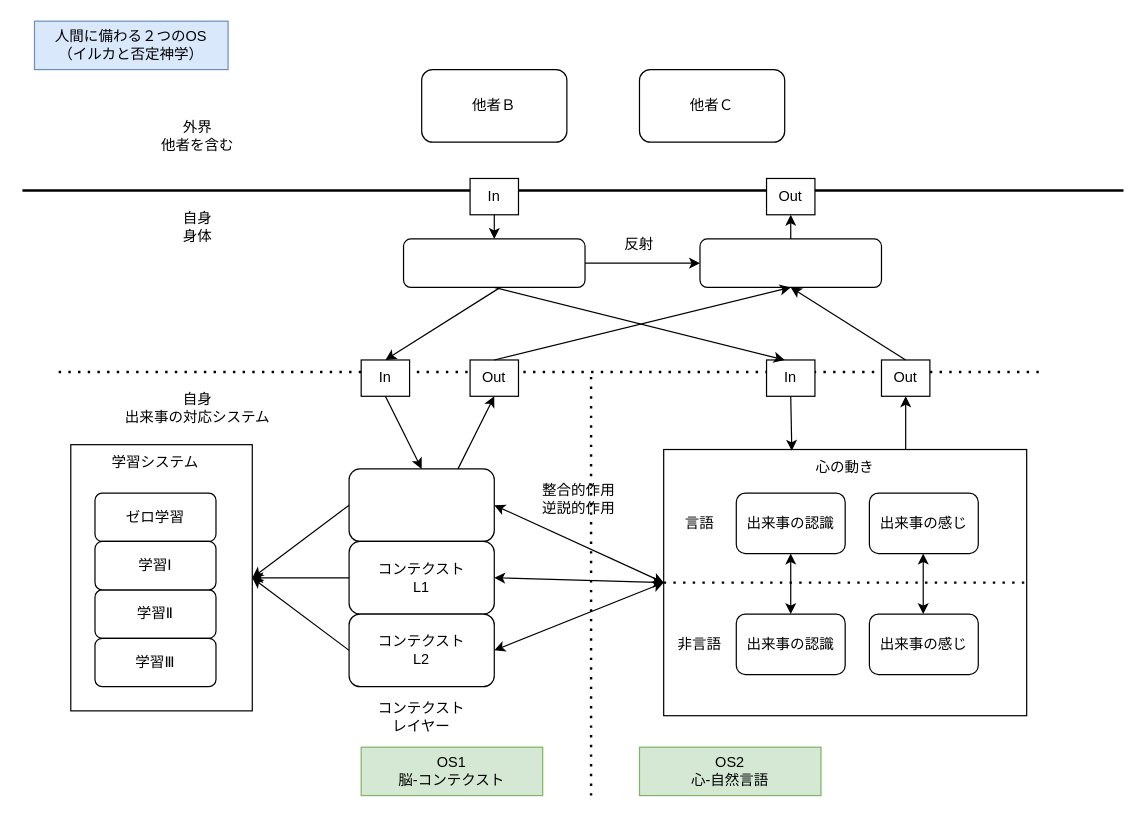
This 1146x819 diagram has some shape labels left out. Here are the shapes that lost their labels. From the top down, the centre of each, then its label:
At (x=493, y=262): "感知、検知システム".
At (x=790, y=262): "作動システム".
At (x=421, y=504): "コンテクスト L0".
